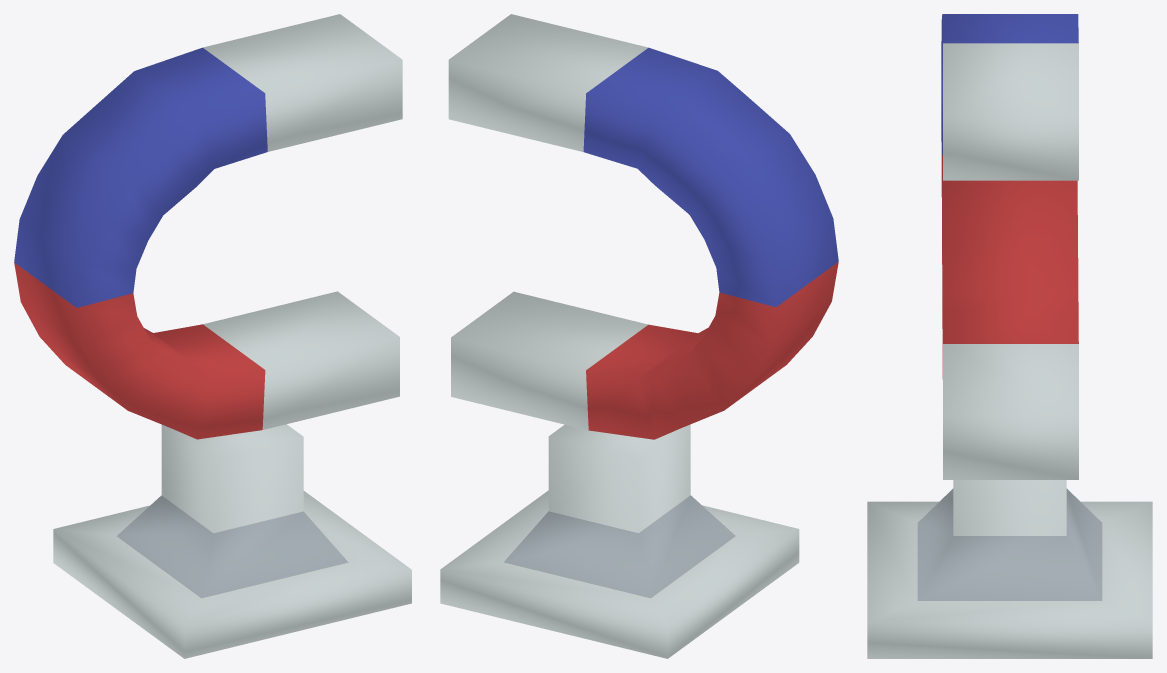
Rendered from magnet.glb.
3 views of the same model, side by side, from view 1: azimuth 30°, elevation 25°; view 2: azimuth 150°, elevation 25°; view 3: azimuth 270°, elevation 25° (orthographic). The views are drawn at different scales.
Visible parts, largest first — view 1: BézierCurve, Cube; view 2: BézierCurve, Cube; view 3: BézierCurve, Cube.
Boxes of the visible parts, <box> form: BézierCurve: <box>14,14,402,439</box>; Cube: <box>53,424,411,658</box>; BézierCurve: <box>448,14,838,439</box>; Cube: <box>440,424,799,658</box>; BézierCurve: <box>941,14,1078,479</box>; Cube: <box>867,480,1152,658</box>.
Bounding box in the file's own units: 1.37 × 2.05 × 0.9503.
1 material, 1 textured.
